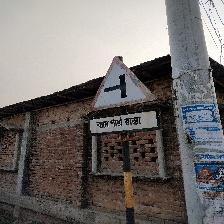Side-road-left: (87, 57, 158, 133)
